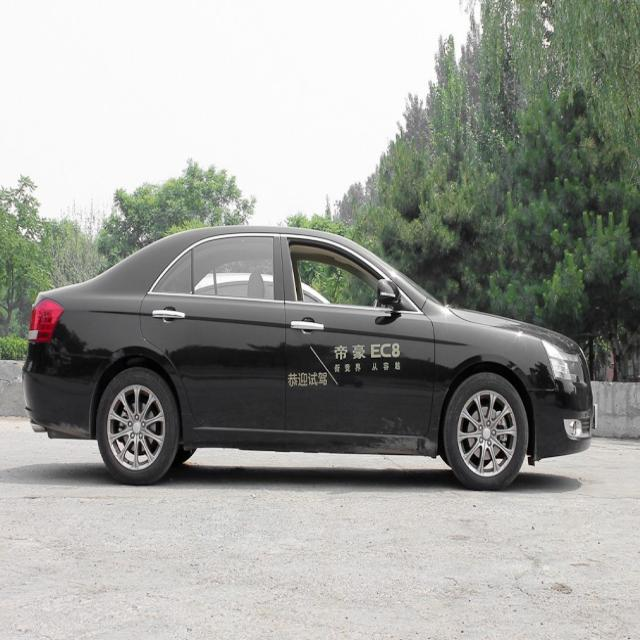back_right_side_light: (26, 294, 64, 348)
door: (134, 230, 286, 440)
front_bumper: (526, 379, 604, 459)
front_right_side_door: (278, 226, 437, 453)
front_right_side_light: (542, 336, 586, 384)
front_right_side_mirror: (371, 272, 400, 314)
rear_bumper: (26, 357, 94, 442)
wheel: (100, 367, 176, 484), (448, 374, 526, 485)
